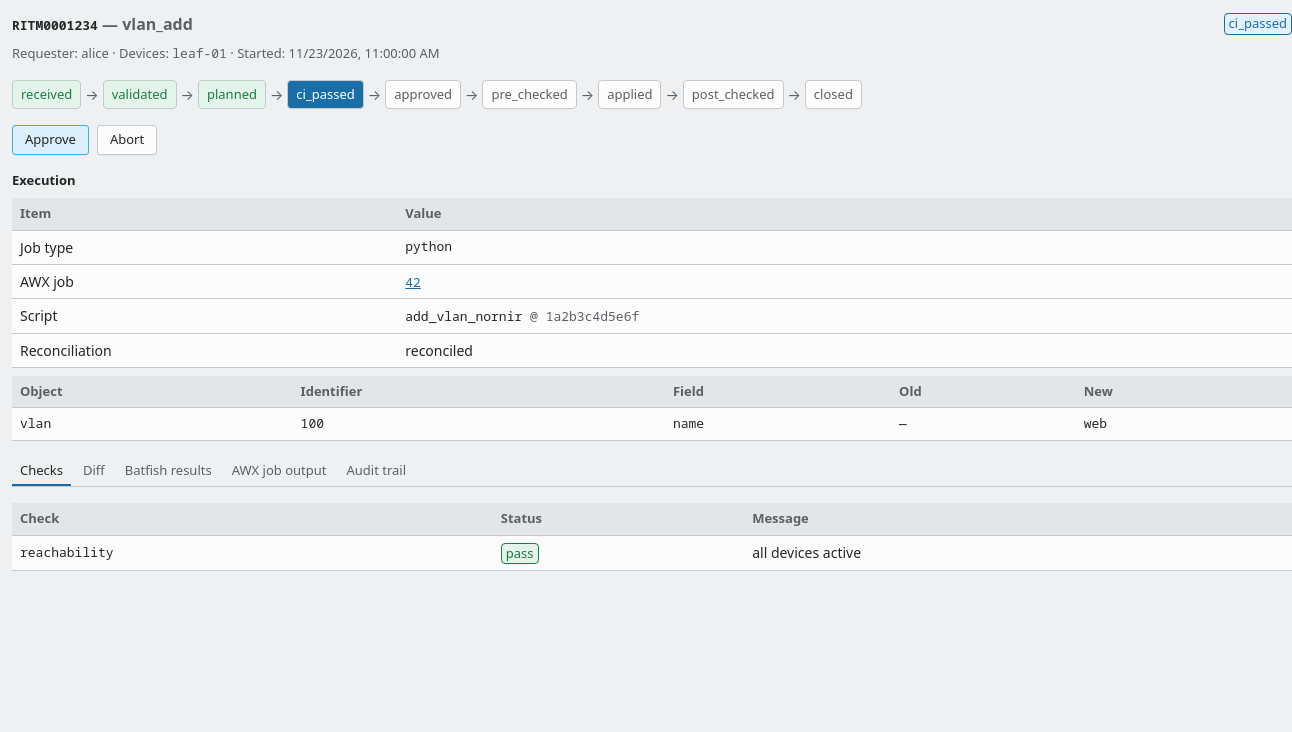
Scenario: ChangeDetail › shows diff with line numbers when Diff tab is selected
Check: the text "RITM0001234" is shown, box [12,16,98,34]
Click the tab "Diff" at {"x": 94, "y": 471}, box [75,456,113,486]
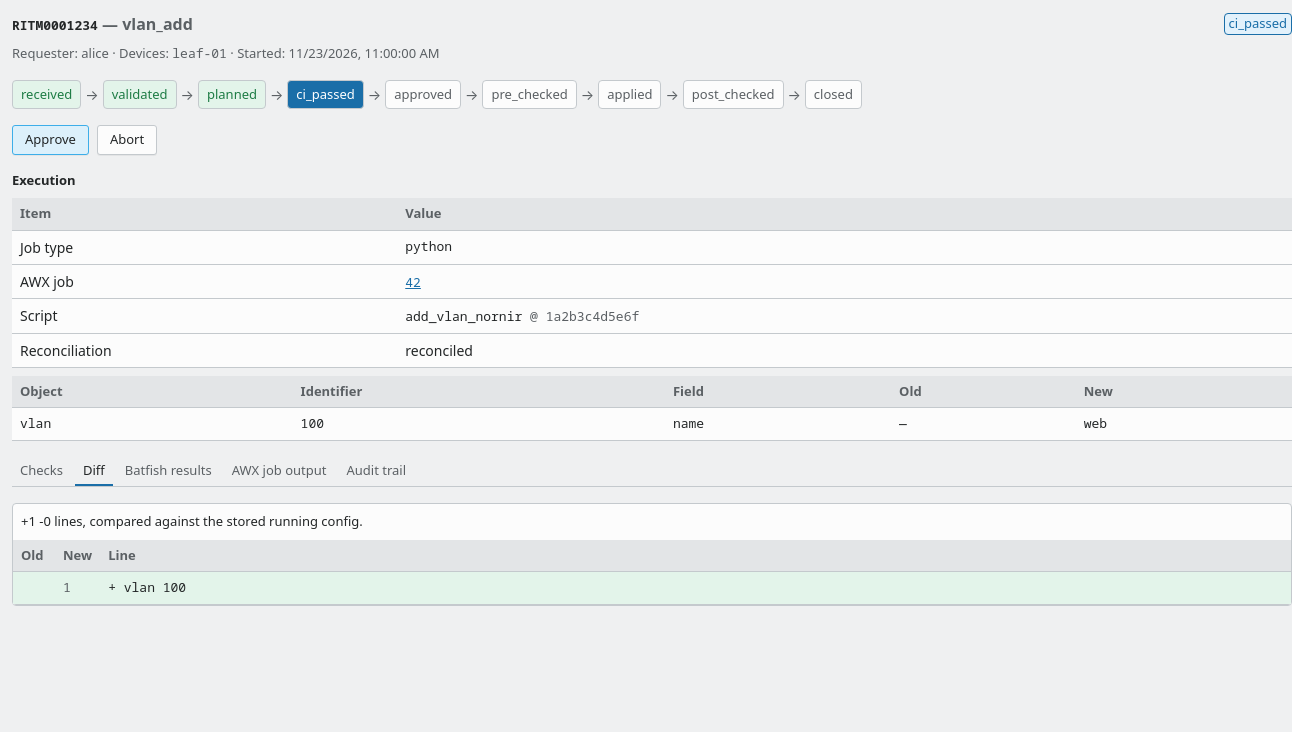
Check: the text "+ vlan 100" is shown, box [100,572,1291,604]
